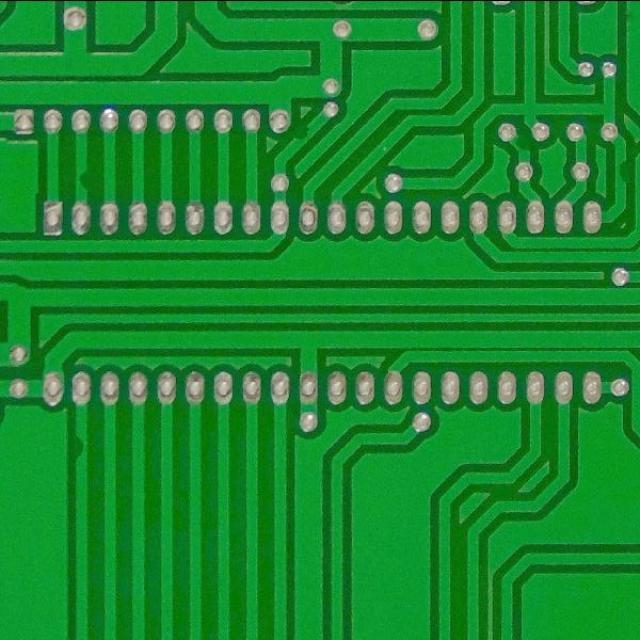mouse_bite: (68, 429, 90, 463), (611, 157, 634, 186), (290, 121, 316, 145), (75, 163, 94, 194), (514, 133, 535, 155)
